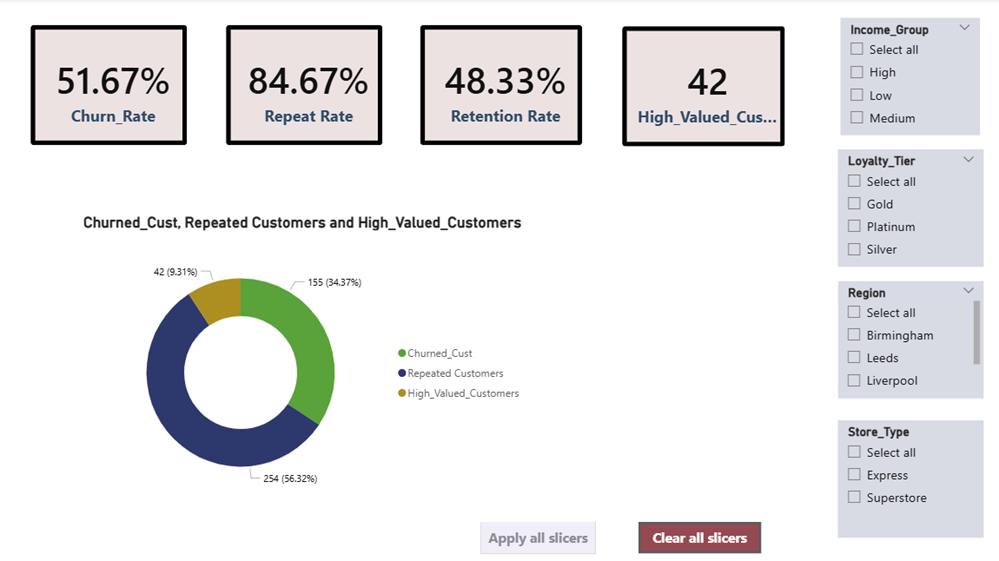

The page's visual inventory and layout, read from the dashboard file:
{"tool":"powerbi","page":{"name":"Customer Segmentation","canvas":[1280,720],"ordinal":8},"visuals":[{"type":"cardVisual","fields":{"Data":["Calculation_Dump.Churn_Rate"]},"box":[24.8,16.6,233.6,187.2],"z":0},{"type":"slicer","fields":{"Values":["customer_Demographics_Transaction.Income_Group"]},"box":[1071.7,24.8,177.2,149.1],"z":0,"group":"g1"},{"type":"cardVisual","fields":{"Data":["Calculation_Dump.Repeat Rate"]},"box":[273.3,16.6,233.6,187.2],"z":1000},{"type":"slicer","fields":{"Values":["Loyalty_Program.Loyalty_Tier"]},"box":[1068.4,192.1,185.5,149.1],"z":1000,"group":"g1"},{"type":"cardVisual","fields":{"Data":["Calculation_Dump.Retention Rate"]},"box":[520.1,16.6,240.2,187.2],"z":2000},{"type":"slicer","fields":{"Values":["customer_Demographics_Transaction.Region"]},"box":[1068.4,359.4,185.5,149.1],"z":2000,"group":"g1"},{"type":"cardVisual","fields":{"Data":["Calculation_Dump.High_Valued_Customers"]},"box":[776.9,18.2,241.8,187.2],"z":3000},{"type":"slicer","fields":{"Values":["Store_Locations.Store_Type"]},"box":[1068.4,536.7,185.5,149.1],"z":3000,"group":"g1"},{"type":"actionButton","box":[815,665.9,155.7,39.8],"z":3000,"group":"g2"},{"type":"donutChart","fields":{"Y":["Calculation_Dump.Churned_Cust","Calculation_Dump.Repeated Customers","Calculation_Dump.High_Valued_Customers"]},"box":[104.4,273.3,573.1,384.3],"z":4000},{"type":"actionButton","box":[614.6,665.9,145.8,39.8],"z":4000,"group":"g2"},{"type":"group","id":"g1","title":"Group 1","box":[1068.4,24.8,185.5,660.9],"z":5000},{"type":"group","id":"g2","title":"Group 2","box":[614.6,665.9,356.1,39.8],"z":6000}]}

Visuals, with their boxes in screenshot pixels (x1, y1, x2, y2), scaled from the page's 1280x720 canvas onto the 999x561 screenshot:
cardVisual - Calculation_Dump.Churn_Rate: [19,13,202,159]
slicer - customer_Demographics_Transaction.Income_Group: [836,19,975,135]
cardVisual - Calculation_Dump.Repeat Rate: [213,13,396,159]
slicer - Loyalty_Program.Loyalty_Tier: [834,150,979,266]
cardVisual - Calculation_Dump.Retention Rate: [406,13,593,159]
slicer - customer_Demographics_Transaction.Region: [834,280,979,396]
cardVisual - Calculation_Dump.High_Valued_Customers: [606,14,795,160]
slicer - Store_Locations.Store_Type: [834,418,979,534]
actionButton: [636,519,758,550]
donutChart - Calculation_Dump.Churned_Cust x Calculation_Dump.Repeated Customers: [81,213,529,512]
actionButton: [480,519,593,550]
"Group 1" group: [834,19,979,534]
"Group 2" group: [480,519,758,550]
